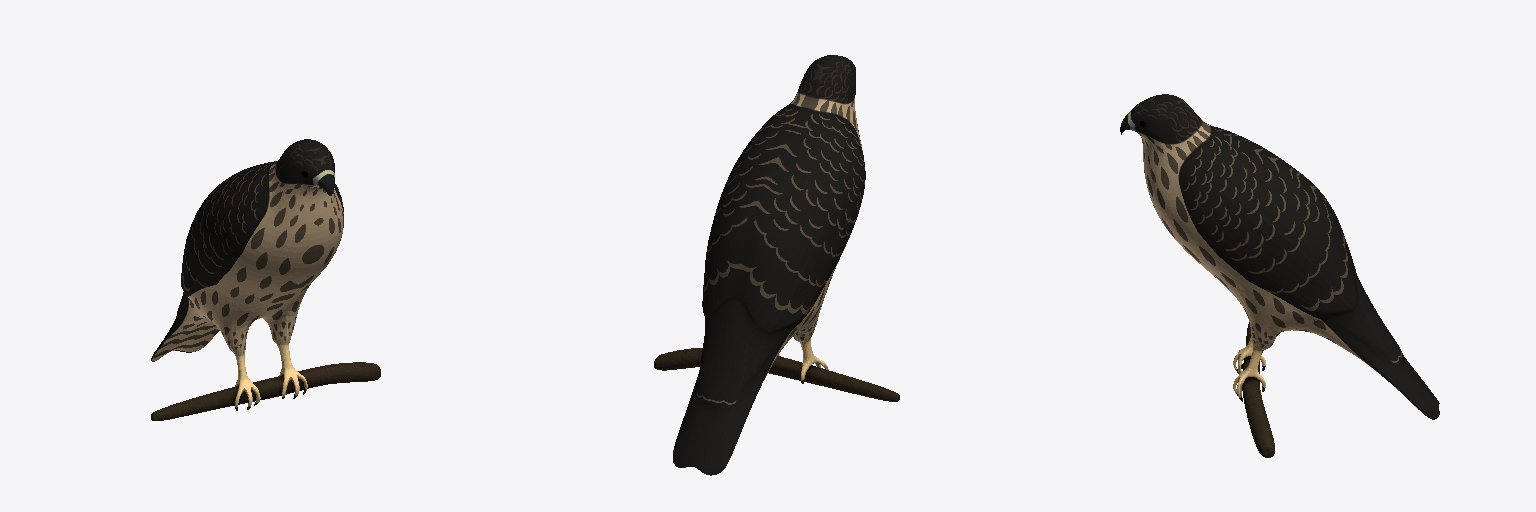
3 renders of one model, left to right at view 1: azimuth 30°, elevation 25°; view 2: azimuth 150°, elevation 25°; view 3: azimuth 270°, elevation 25°, orthographic.
Visible parts, largest first — view 1: Default; view 2: Default; view 3: Default.
Part boxes in pixels (x1,y1,x2,y2): Default: (151, 139, 380, 420); Default: (654, 55, 899, 475); Default: (1120, 94, 1439, 457).
Size of the model in its own units: 0.437 by 0.5568 by 0.5134.
1 materials, 1 textured.